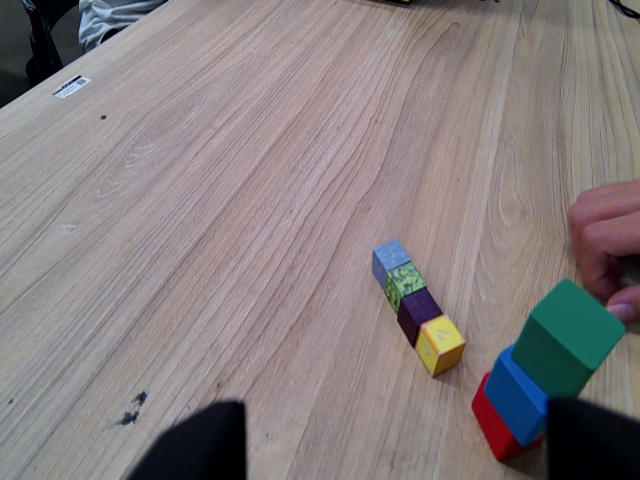brick: (395, 283, 448, 350)
grass: (378, 259, 430, 314)
lucky: (413, 314, 470, 375)
stone: (369, 235, 412, 286)
